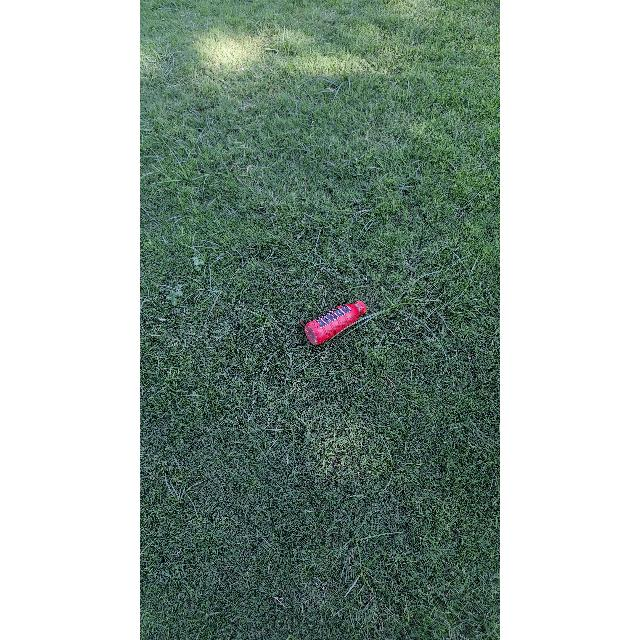Prime - Shitass: (299, 296, 365, 342)
